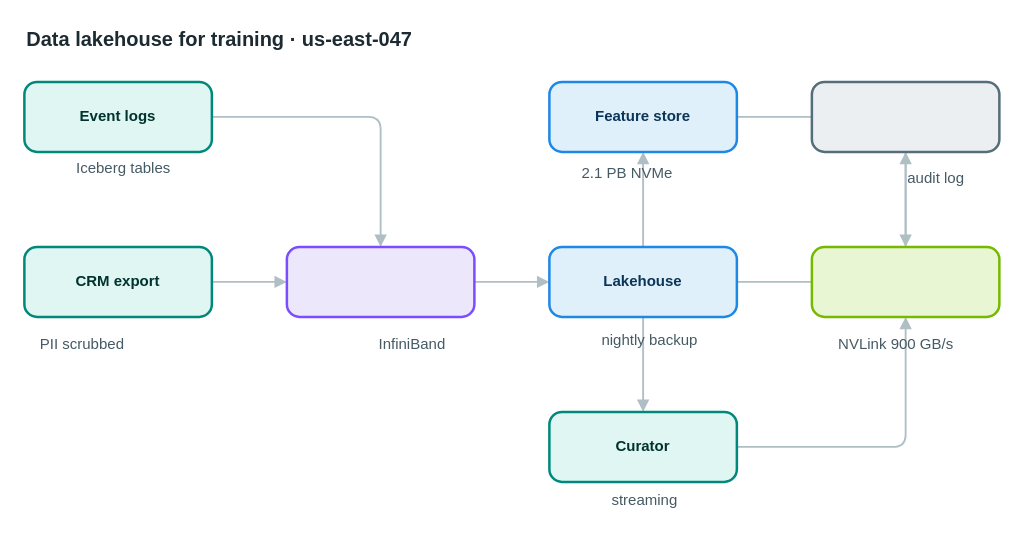
The diagram is 1021 pixels wide and 534 high, and some of its shapes have lost their labels. Each missing label, with the box of its shape:
Dashboards: (810, 80, 1000, 152)
Stream bus: (285, 245, 475, 318)
Training jobs: (810, 245, 1000, 318)
